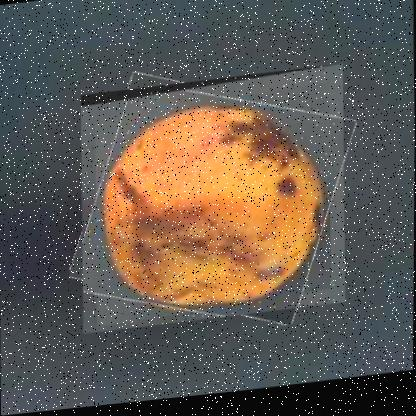mango_rotten: (78, 69, 346, 336)
